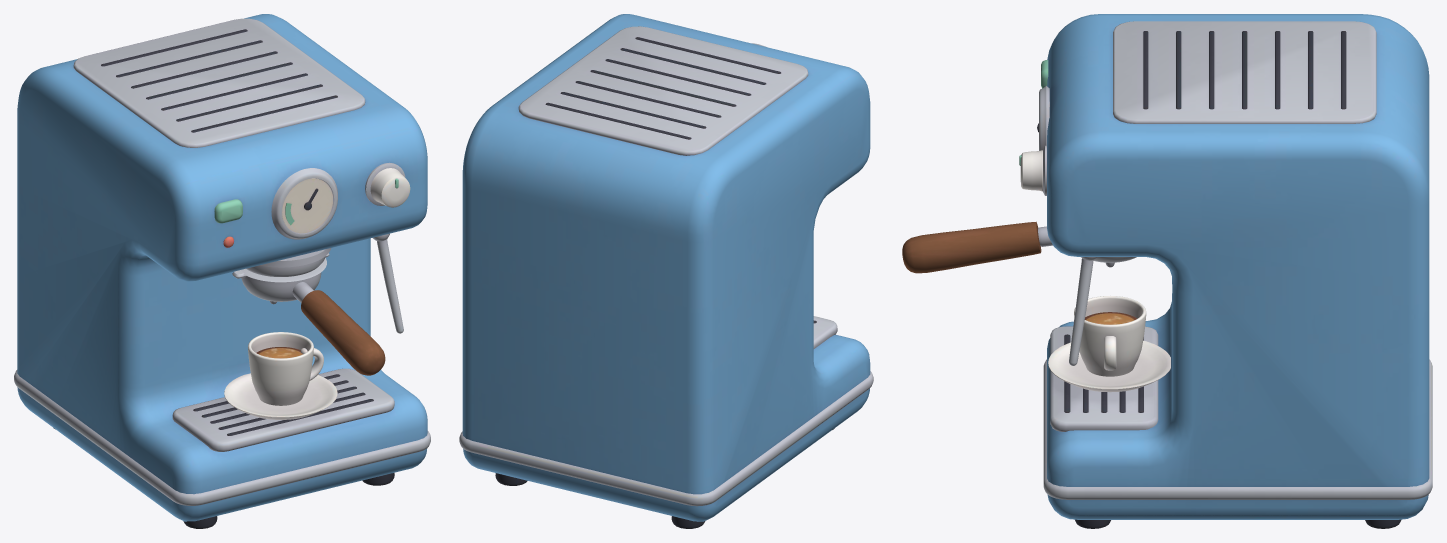
File: coffee-machine.glb
The picture shows the model from 3 angles, left to right: view 1: azimuth 30°, elevation 25°; view 2: azimuth 150°, elevation 25°; view 3: azimuth 270°, elevation 25°; orthographic projection. The views are drawn at different scales.
Parts seen in each view (by area): view 1: coffee-machine_body, coffee-machine_portafilter; view 2: coffee-machine_body; view 3: coffee-machine_body, coffee-machine_portafilter.
Boxes of the visible parts, x1,y1,x2,y2 form: coffee-machine_body: (14,14,430,528); coffee-machine_portafilter: (232,253,385,375); coffee-machine_body: (459,14,873,528); coffee-machine_body: (1019,14,1432,528); coffee-machine_portafilter: (902,221,1136,273).
Bounding box in the file's own units: 0.245 × 0.3386 × 0.4021.
Materials: 2 (2 with a texture image).
